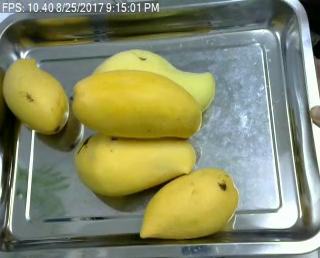Mango: (72, 70, 200, 142), (81, 50, 214, 118), (74, 130, 198, 196), (139, 166, 241, 241), (3, 58, 71, 137)
